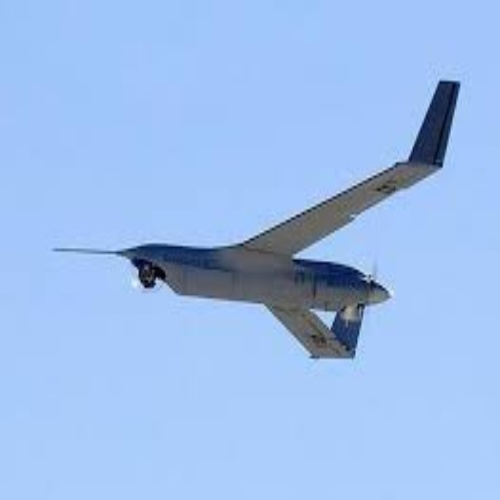uav: (77, 80, 463, 361)
